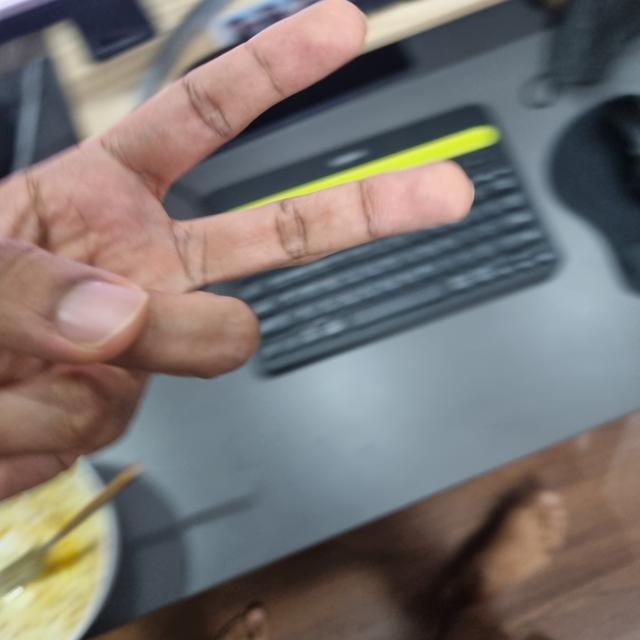Scissors: (0, 2, 458, 502)
